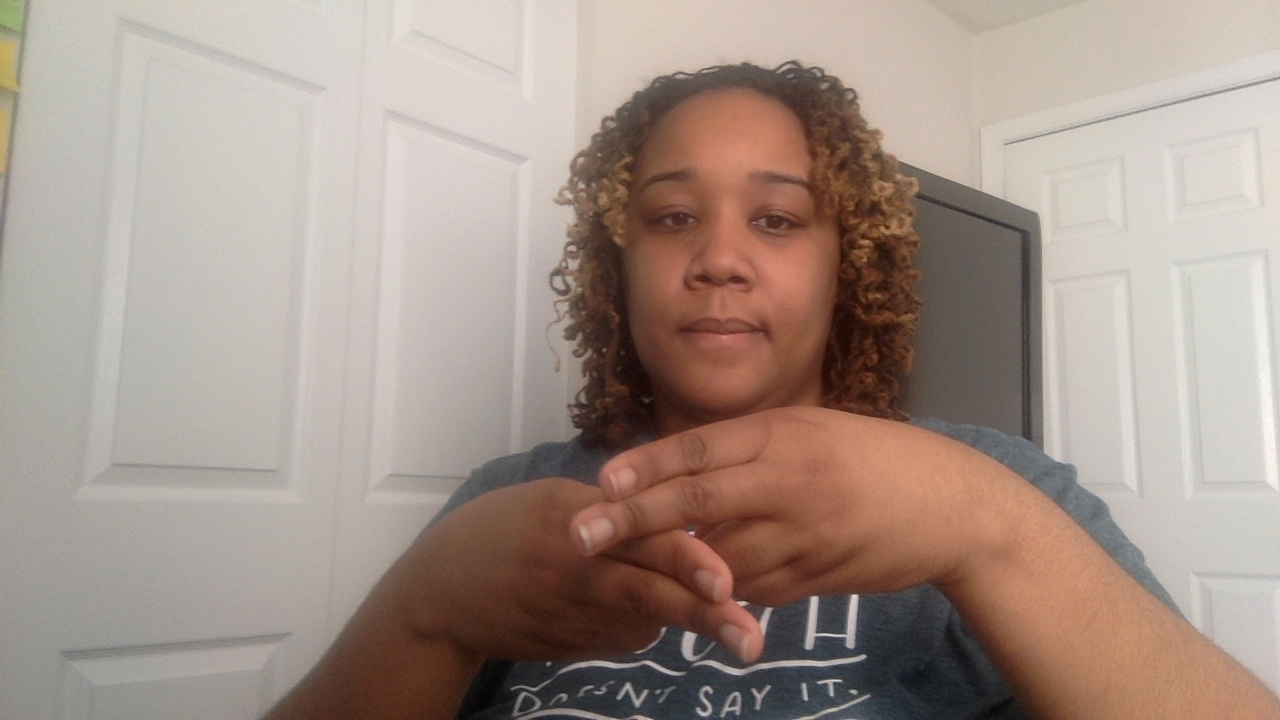name: (422, 396, 1039, 684)
